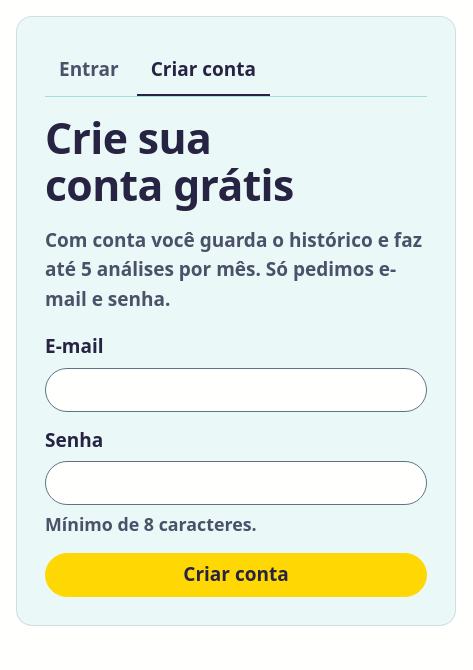
Test case: Login (criar conta) › senha com menos de 8 caracteres é recusada antes de enviar
Type "voce@exemplo.com" into the field labelled "E-mail".
click(236, 390); type("voce@exemplo.com")  # box [45,368,427,412]
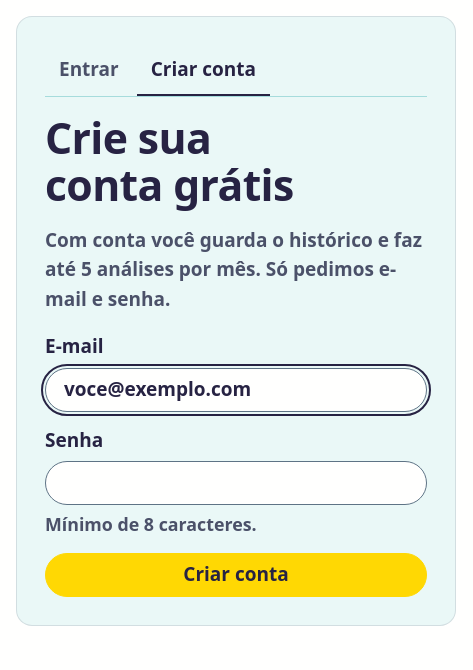
Type "1234567" into the password field labelled "Senha".
click(236, 483); type("1234567")  # box [45,461,427,505]
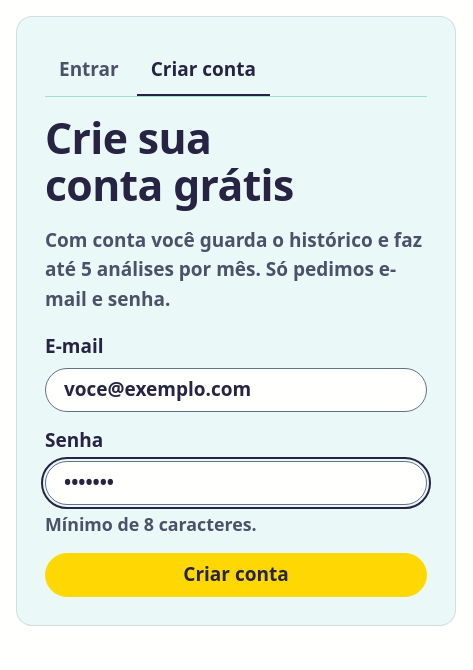
Click the button "Criar conta".
click(236, 574)  # box [45,552,427,596]
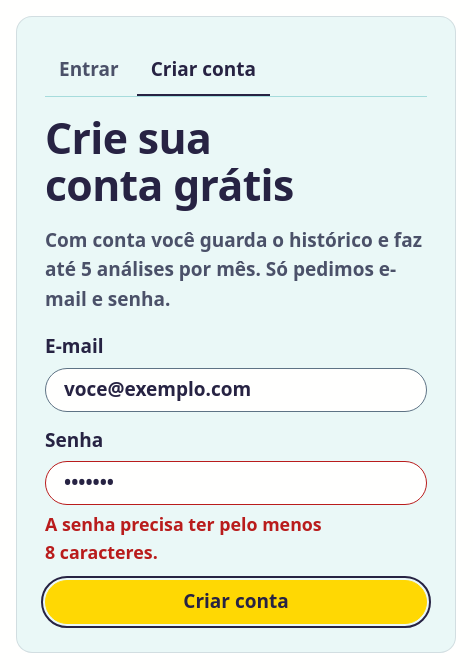
Result: the text "A senha precisa ter pelo menos 8 caracteres." is shown at [45,512,322,564]
Result: the text "Mínimo de 8 caracteres." is gone
